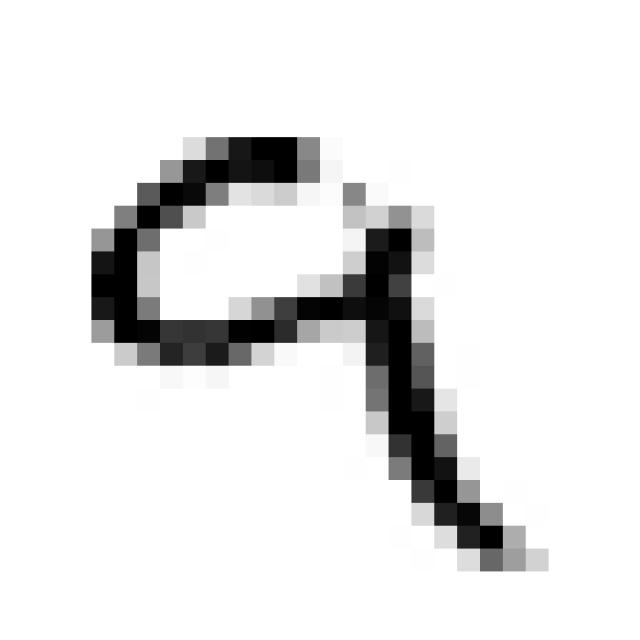9 -nine-: (64, 96, 555, 598)
